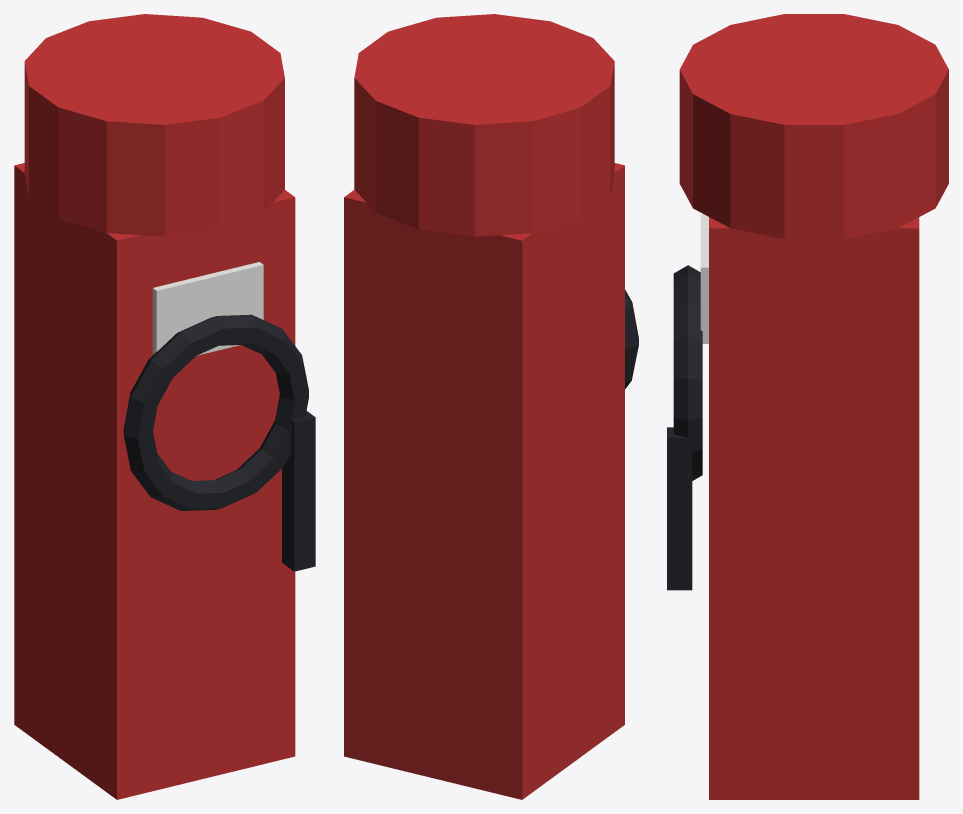
The model's file is vacuum_column.glb.
3 views of the same model, side by side, from view 1: azimuth 30°, elevation 25°; view 2: azimuth 150°, elevation 25°; view 3: azimuth 270°, elevation 25° (orthographic). The views are drawn at different scales.
Parts seen in each view (by area): view 1: post_vacuum_red, head_vacuum_red, hose_vacuum_hose, sign_vacuum_sign, nozzle_vacuum_hose; view 2: post_vacuum_red, head_vacuum_red, hose_vacuum_hose; view 3: post_vacuum_red, head_vacuum_red, hose_vacuum_hose, nozzle_vacuum_hose, sign_vacuum_sign.
Part boxes in pixels (left/top/right/bottom): post_vacuum_red: left=14, top=163, right=295, bottom=799; head_vacuum_red: left=24, top=14, right=284, bottom=236; hose_vacuum_hose: left=123, top=314, right=308, bottom=510; sign_vacuum_sign: left=152, top=262, right=263, bottom=355; nozzle_vacuum_hose: left=282, top=411, right=315, bottom=571; post_vacuum_red: left=344, top=163, right=624, bottom=799; head_vacuum_red: left=354, top=14, right=614, bottom=236; hose_vacuum_hose: left=625, top=289, right=638, bottom=388; post_vacuum_red: left=709, top=217, right=919, bottom=799; head_vacuum_red: left=679, top=14, right=948, bottom=239; hose_vacuum_hose: left=673, top=265, right=702, bottom=480; nozzle_vacuum_hose: left=667, top=427, right=692, bottom=590; sign_vacuum_sign: left=700, top=214, right=708, bottom=343.
Size of the model in its own units: 0.624 by 1.8 by 0.67.
